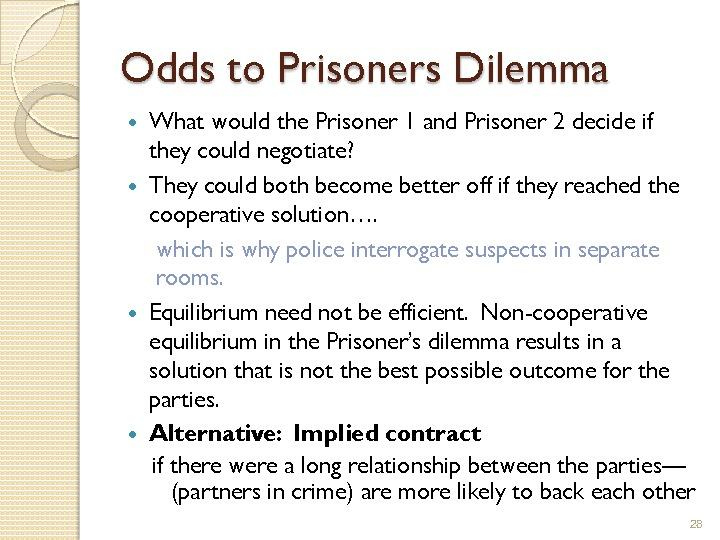paragraph: (115, 108, 707, 517)
title: (116, 35, 619, 98)
